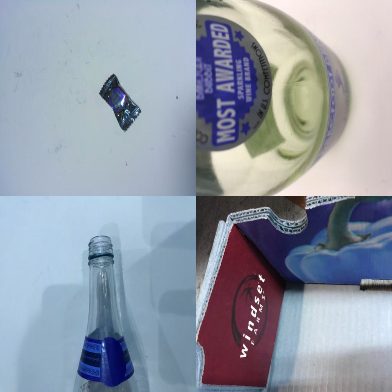cardboard: (197, 196, 391, 391)
glass: (76, 237, 140, 392)
plastic: (197, 1, 352, 195)
trash: (98, 73, 142, 131)
